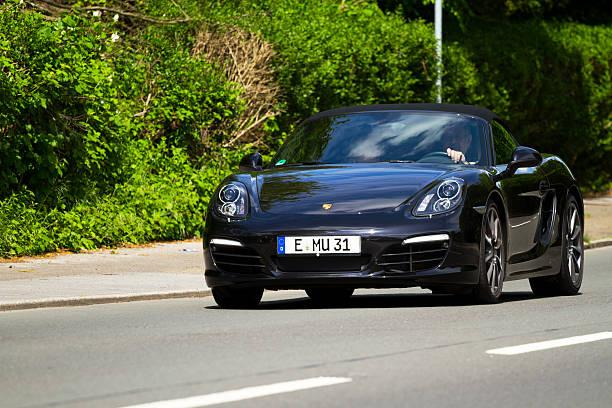porsche: (321, 200, 336, 214)
